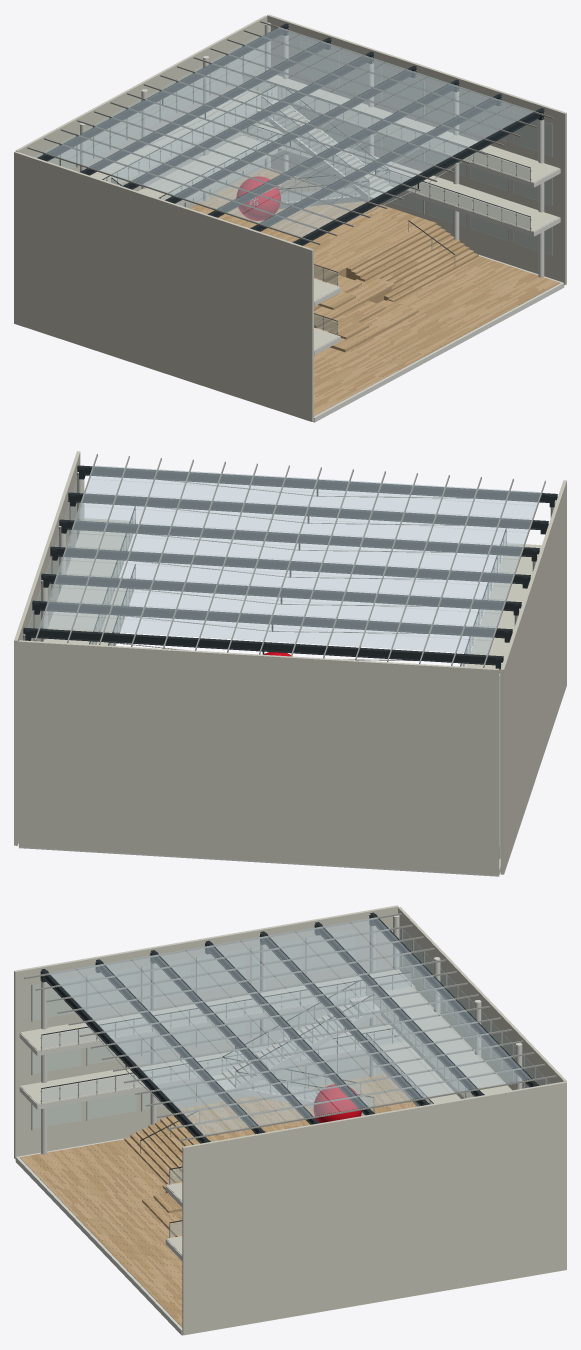
The model's file is ckk-interior-91fa2b1c4d5d.glb.
The picture shows the model from 3 angles, top to bottom: view 1: azimuth 30°, elevation 25°; view 2: azimuth 150°, elevation 25°; view 3: azimuth 270°, elevation 25°; orthographic projection. The views are drawn at different scales.
Parts seen in each view (by area): view 1: CKK.001; view 2: CKK.001; view 3: CKK.001.
Boxes of the visible parts, <box> form: CKK.001: <box>14,14,566,422</box>; CKK.001: <box>14,451,566,876</box>; CKK.001: <box>14,905,566,1335</box>.
Size of the model in its own units: 38.88 by 14.19 by 37.43.
